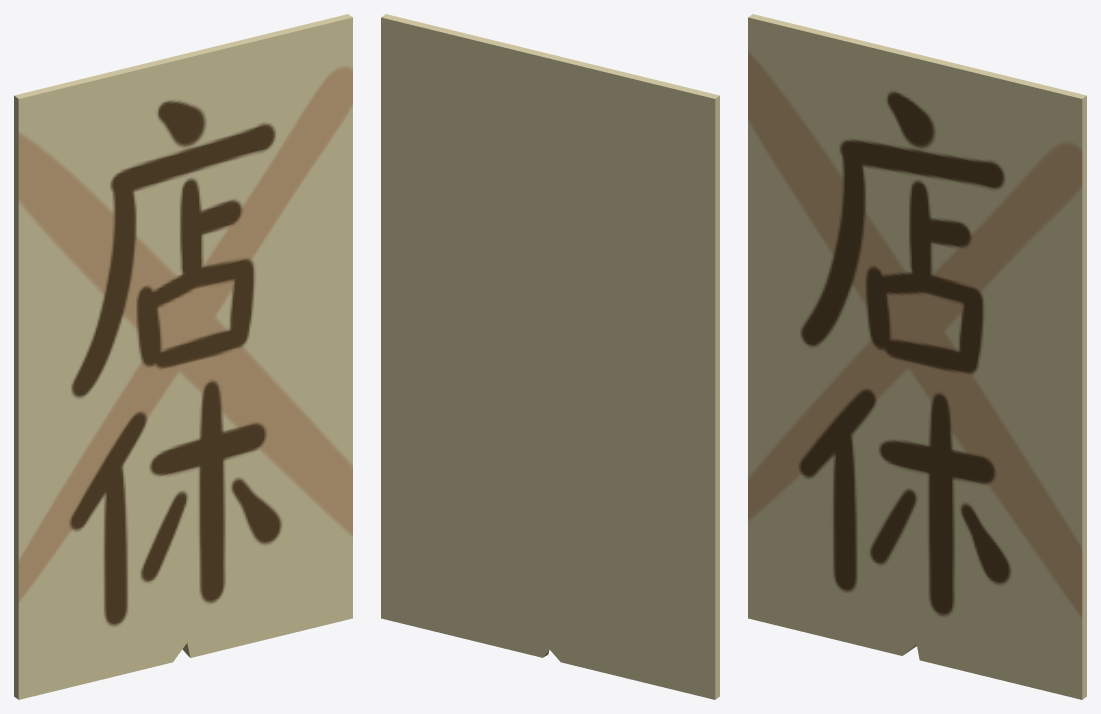
The model's file is Poster_Closed.fbx.
3 renders of one model, left to right at view 1: azimuth 30°, elevation 25°; view 2: azimuth 150°, elevation 25°; view 3: azimuth 330°, elevation 25°, orthographic.
Parts seen in each view (by area): view 1: Poster_Closed; view 2: Poster_Closed; view 3: Poster_Closed.
Part boxes in pixels (x1=…): Poster_Closed: x1=14, y1=14, x2=352, y2=699; Poster_Closed: x1=381, y1=14, x2=719, y2=699; Poster_Closed: x1=748, y1=14, x2=1086, y2=699.
Bounding box in the file's own units: 0.493 × 0.8474 × 0.0121.
1 material, 1 textured.
